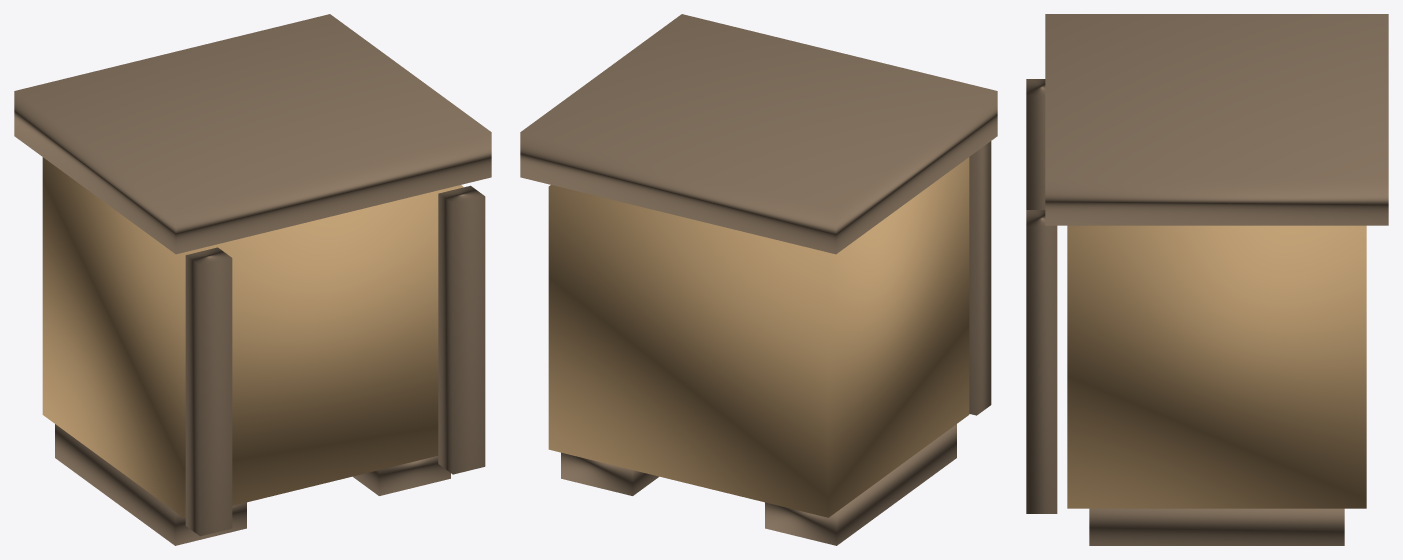
Rendered from prop-generic.gltf.
3 renders of one model, left to right at view 1: azimuth 30°, elevation 25°; view 2: azimuth 150°, elevation 25°; view 3: azimuth 270°, elevation 25°, orthographic. The views are drawn at different scales.
Visible parts, largest first — view 1: Crate.Body, Crate.Top, Crate.Band.L, Crate.Band.R, Crate.Foot.L, Crate.Foot.R; view 2: Crate.Body, Crate.Top, Crate.Foot.L, Crate.Band.L, Crate.Foot.R; view 3: Crate.Body, Crate.Top, Crate.Foot.R, Crate.Band.R, Crate.Band.L.
Boxes of the visible parts, bbox=[...] form: Crate.Body: bbox=[42, 157, 463, 517]; Crate.Top: bbox=[14, 14, 491, 254]; Crate.Band.L: bbox=[185, 247, 232, 536]; Crate.Band.R: bbox=[438, 185, 485, 474]; Crate.Foot.L: bbox=[55, 424, 246, 545]; Crate.Foot.R: bbox=[353, 456, 450, 495]; Crate.Body: bbox=[548, 157, 969, 517]; Crate.Top: bbox=[520, 14, 997, 254]; Crate.Foot.L: bbox=[765, 424, 956, 545]; Crate.Band.L: bbox=[969, 141, 991, 415]; Crate.Foot.R: bbox=[561, 452, 658, 495]; Crate.Body: bbox=[1067, 225, 1366, 508]; Crate.Top: bbox=[1045, 14, 1388, 225]; Crate.Foot.R: bbox=[1089, 508, 1344, 545]; Crate.Band.R: bbox=[1026, 210, 1057, 513]; Crate.Band.L: bbox=[1026, 79, 1045, 209].
Bounding box in the file's own units: 0.7744 × 0.8356 × 0.724.
